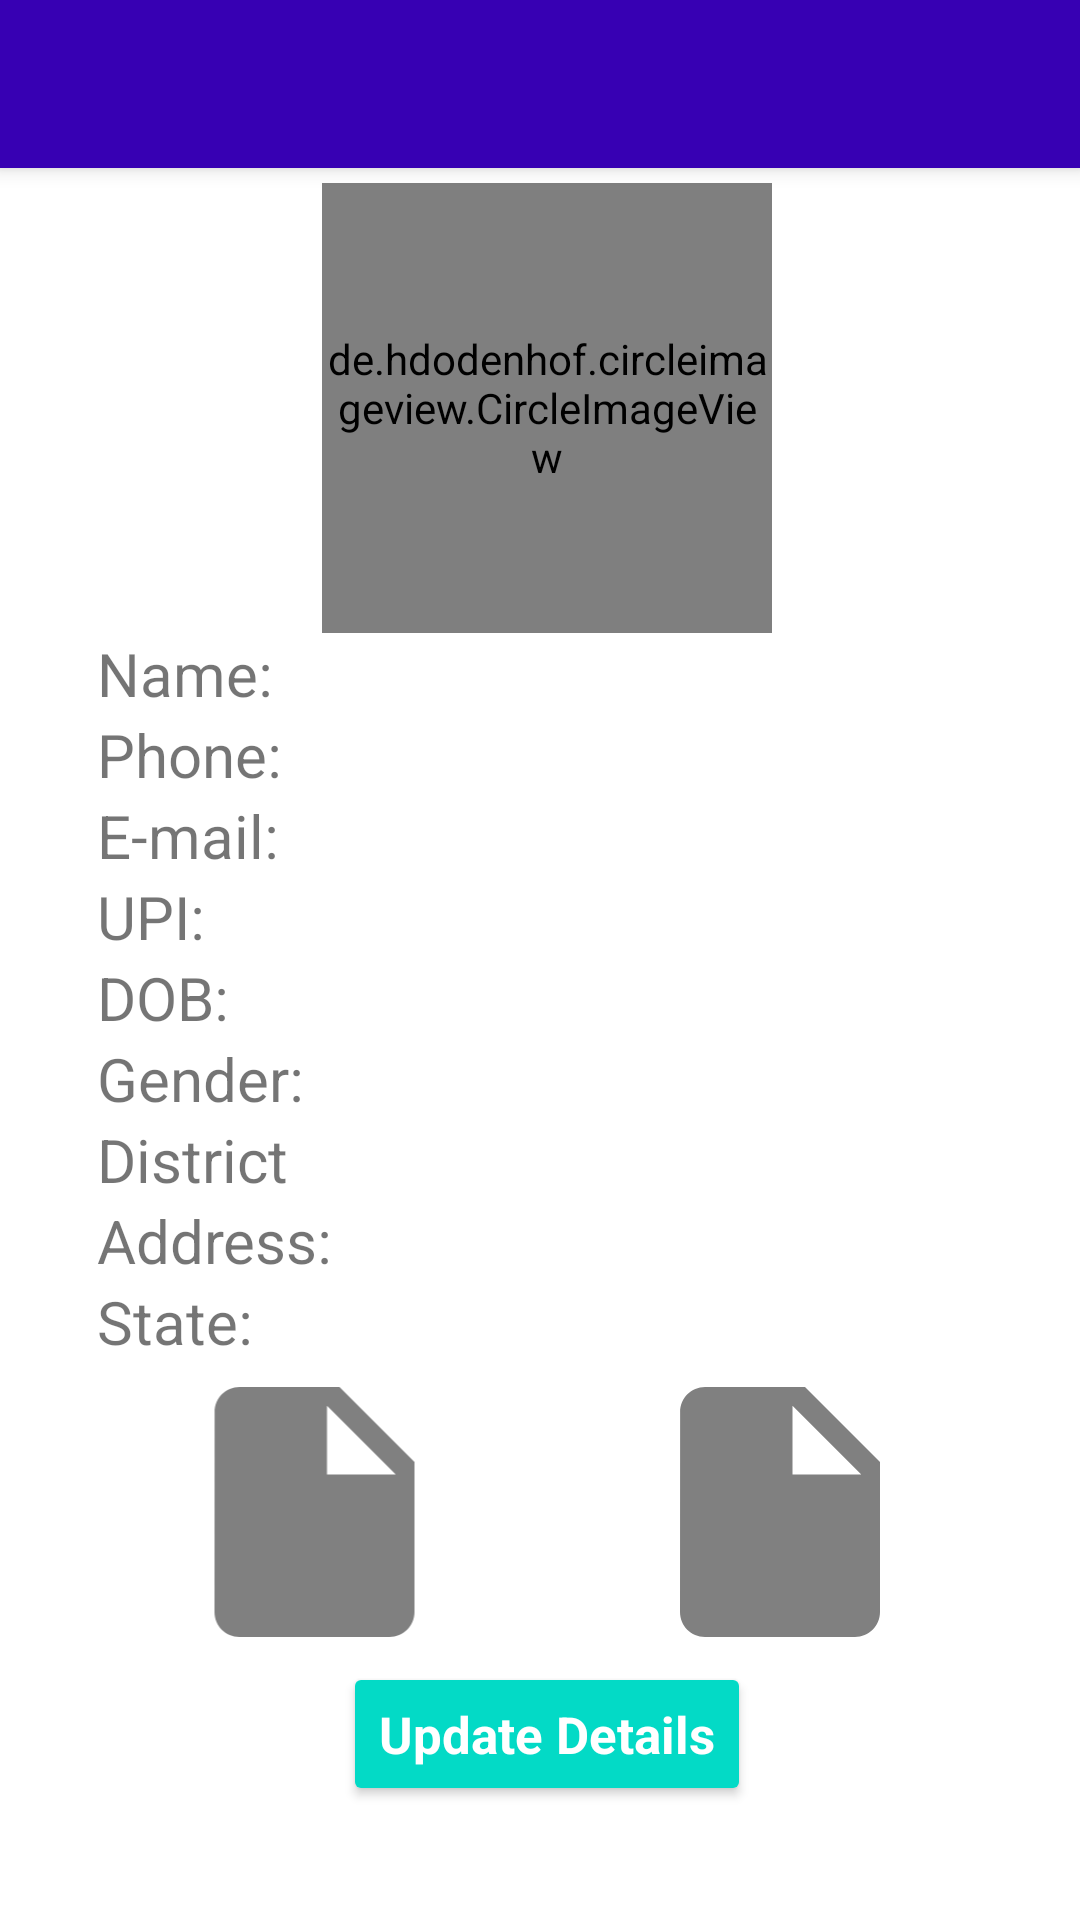

Screen size 1080px x 1920px. Icon name, then its center in pixels as [x,y]:
insert drive file: [314,1512], [780,1512]
